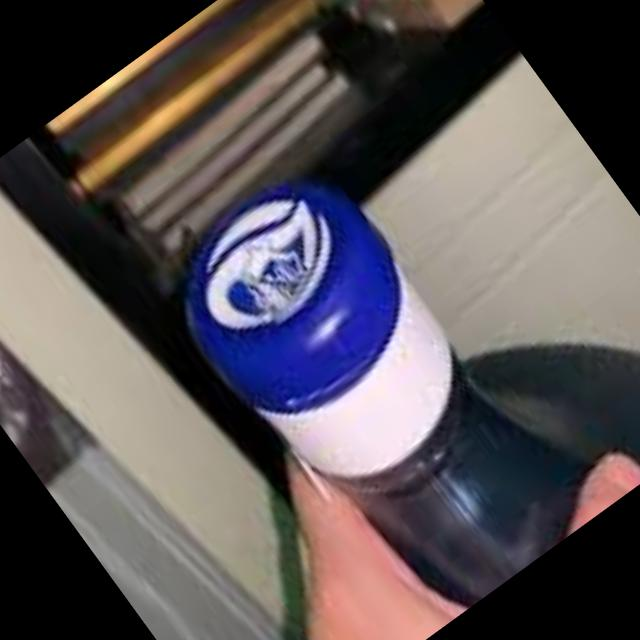Kardus: (131, 133, 490, 513)
